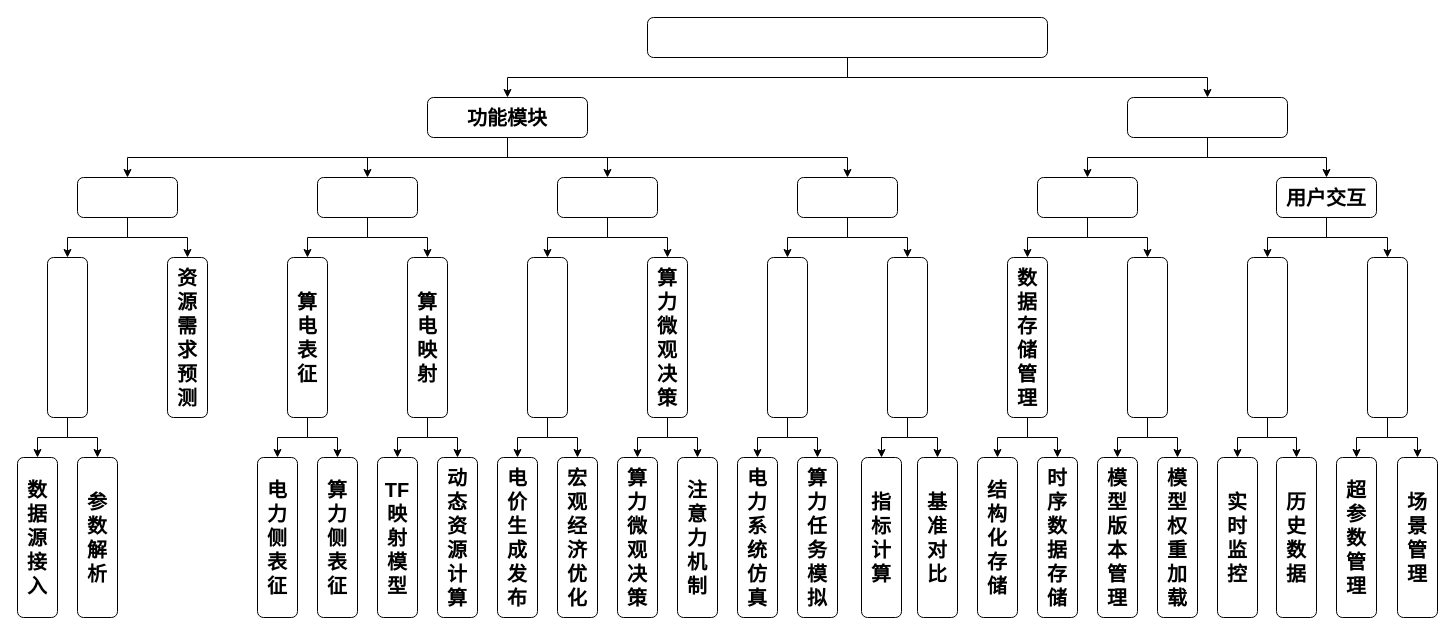
Image size: 1455x635. Some labels were removed from this diagram. The shapes that lost their labels are listed below. From the top down, each one's box as (x1, y1, x2, y2) in pixels, then its label:
(646, 16, 1048, 58): 多智能体驱动的电力 - 算力协同调度系统
(1126, 96, 1288, 138): 系统接口
(76, 176, 178, 218): 数据采集
(316, 176, 418, 218): 表征映射
(556, 176, 658, 218): 协同调度
(796, 176, 898, 218): 可视化
(1036, 176, 1138, 218): 数据库
(46, 256, 88, 418): 任务特性采集
(526, 256, 568, 418): 电力宏观决策
(766, 256, 808, 418): 实验环境搭建
(886, 256, 928, 418): 性能对比分析
(1126, 256, 1168, 418): 模型管理
(1246, 256, 1288, 418): 可视化看板
(1366, 256, 1408, 418): 控制面板
